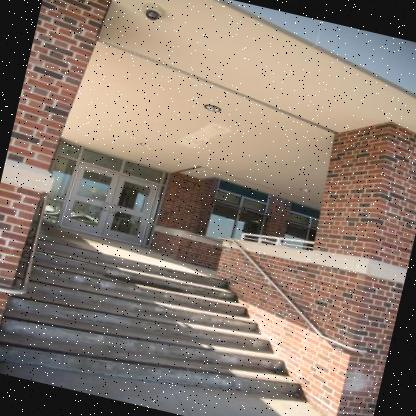stair: (0, 219, 307, 416)
